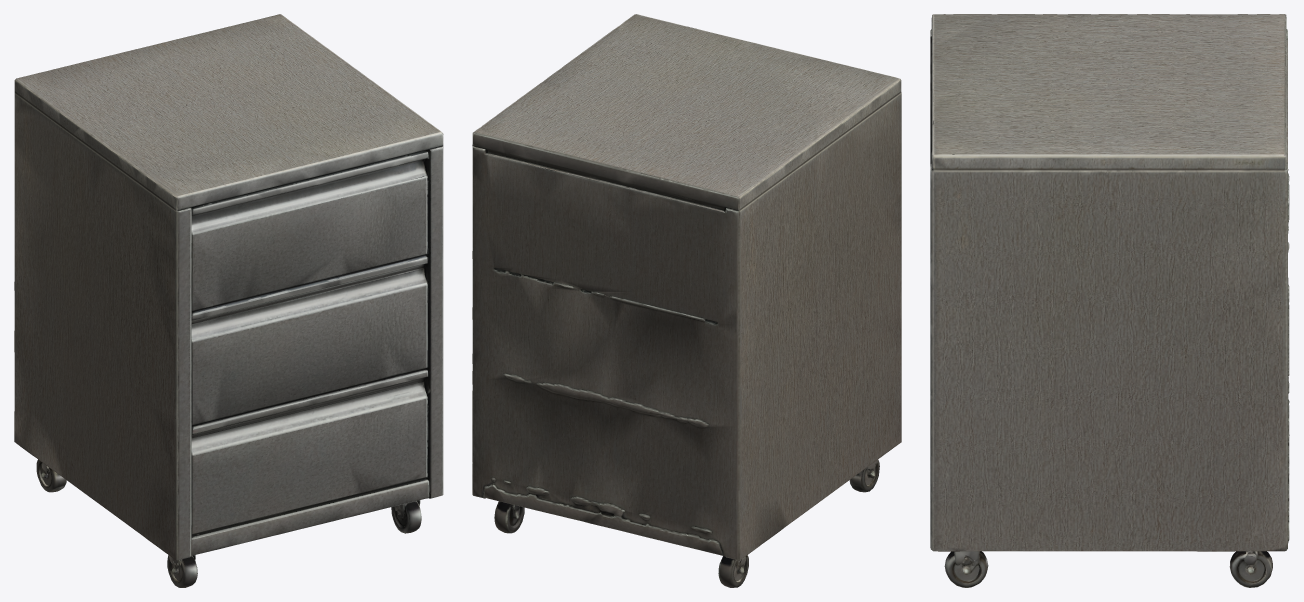
File: Metal_Filing_Cabinet_v01_with VARCO.fbx
The picture shows the model from 3 angles, left to right: view 1: azimuth 30°, elevation 25°; view 2: azimuth 150°, elevation 25°; view 3: azimuth 270°, elevation 25°; orthographic projection. The views are drawn at different scales.
Parts seen in each view (by area): view 1: Metal_Filing_Cabinet; view 2: Metal_Filing_Cabinet; view 3: Metal_Filing_Cabinet.
Boxes of the visible parts, left/top/right/bottom form: Metal_Filing_Cabinet: left=14, top=14, right=443, bottom=587; Metal_Filing_Cabinet: left=472, top=14, right=901, bottom=587; Metal_Filing_Cabinet: left=930, top=14, right=1289, bottom=587.
Size of the model in its own units: 0.4289 by 0.62 by 0.4562.
1 material, 1 textured.
